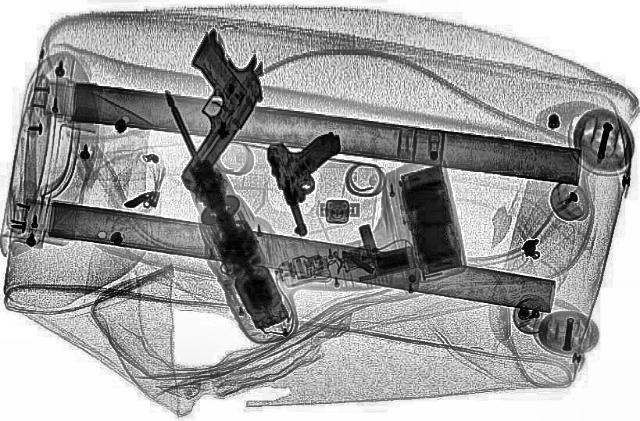Gun: (117, 29, 295, 188), (262, 130, 366, 234)
